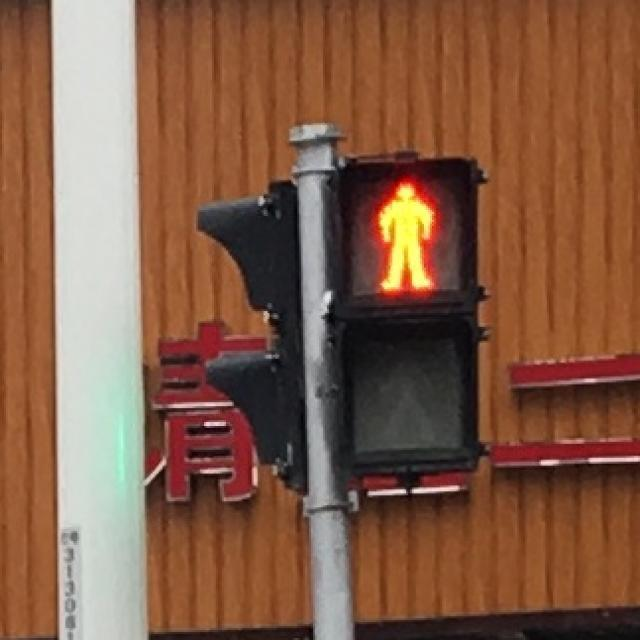red-crossing: (344, 172, 472, 304)
